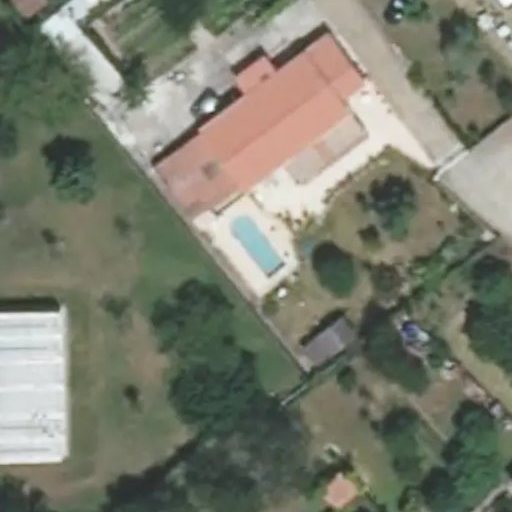pool: (227, 215, 286, 280)
